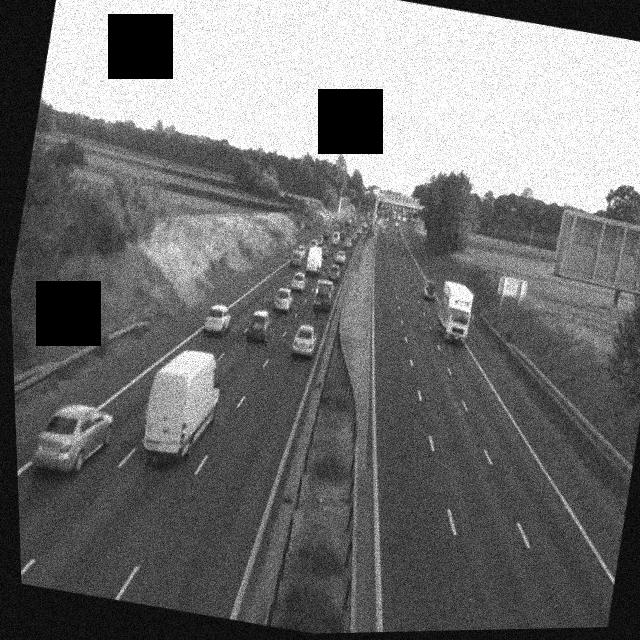car: (28, 396, 117, 481), (202, 301, 235, 337), (290, 324, 320, 359), (245, 307, 274, 343), (271, 285, 295, 313), (422, 278, 440, 300), (326, 262, 343, 282), (332, 248, 348, 269), (292, 243, 308, 264), (290, 253, 305, 273), (346, 235, 356, 249)
truck: (135, 343, 228, 468), (431, 277, 478, 346), (310, 279, 335, 313), (303, 242, 326, 276)
